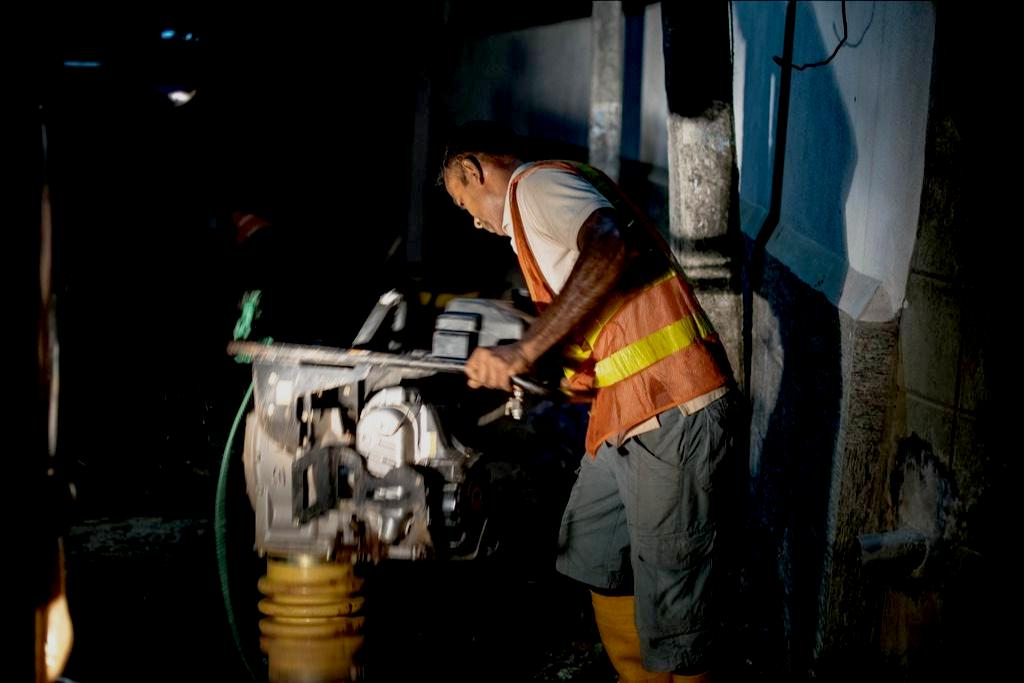no_vest: (508, 158, 698, 415)
person: (437, 112, 751, 675)
